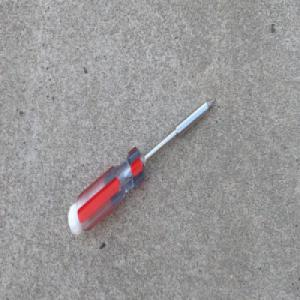Screwdriver: (66, 96, 217, 238)
